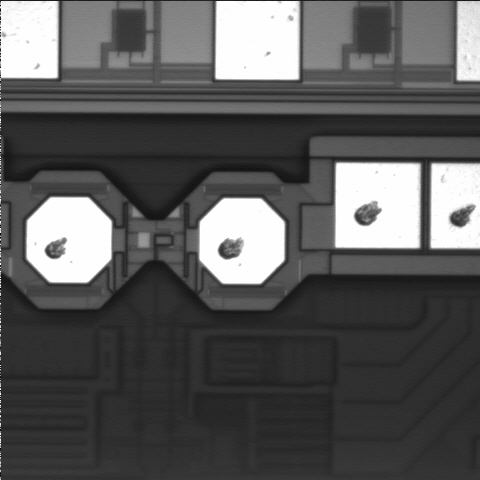pad: (199, 198, 285, 284), (27, 197, 112, 283), (335, 163, 420, 248)
